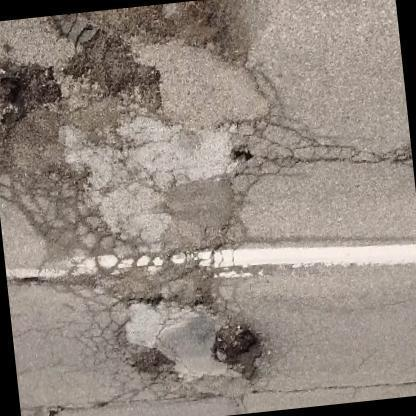pothole: (50, 0, 252, 121), (0, 50, 62, 130), (204, 317, 266, 388), (116, 338, 184, 382)
